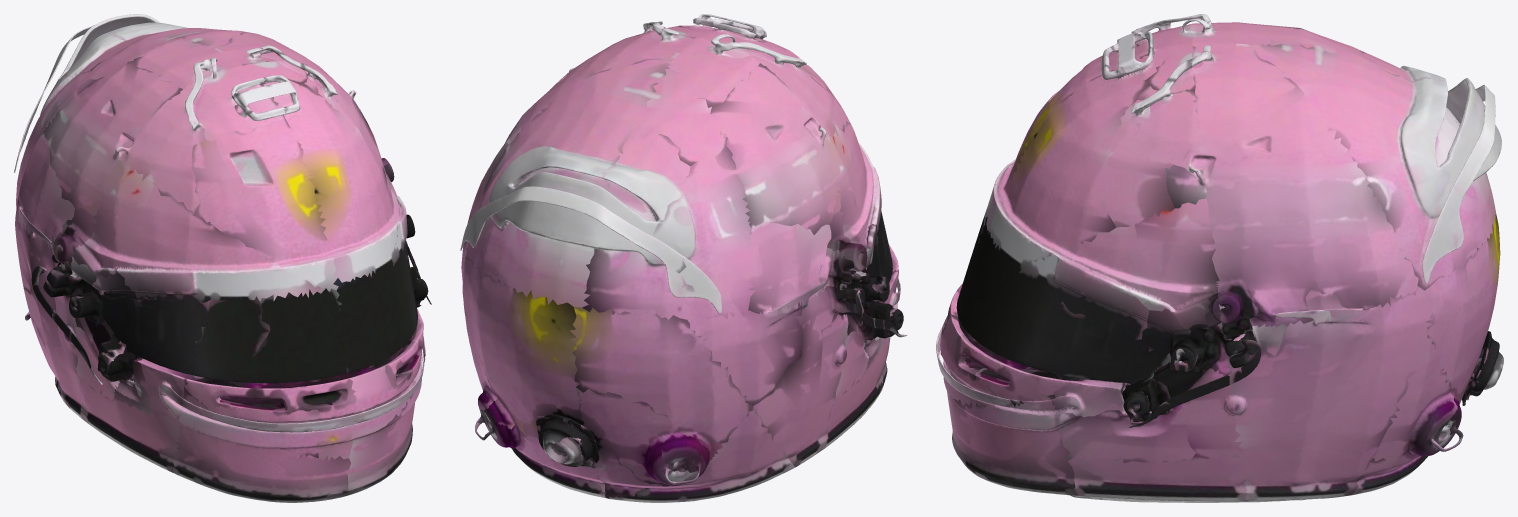
File: ferrari_pink.glb
3 views of the same model, side by side, from view 1: azimuth 30°, elevation 25°; view 2: azimuth 150°, elevation 25°; view 3: azimuth 270°, elevation 25° (orthographic). The views are drawn at different scales.
Bounding box in the file's own units: 0.4705 × 0.4627 × 0.5715.
Materials: 1 (1 with a texture image).
